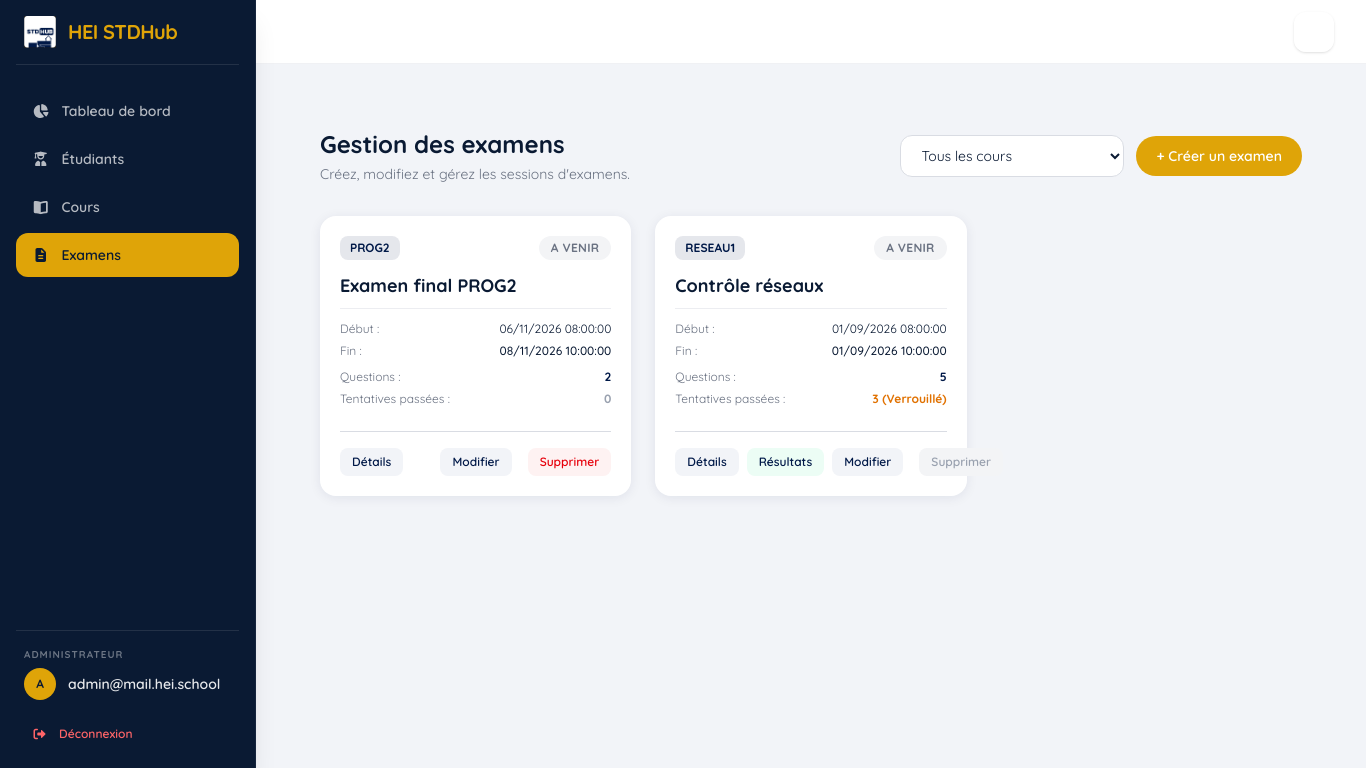
Gestion des examens (admin) › ouvre et ferme le formulaire de création
expect the text "NOUVEL EXAMEN" is not shown: met
Click the button "+ Créer un examen": [1219, 156] box [1136,136,1302,176]
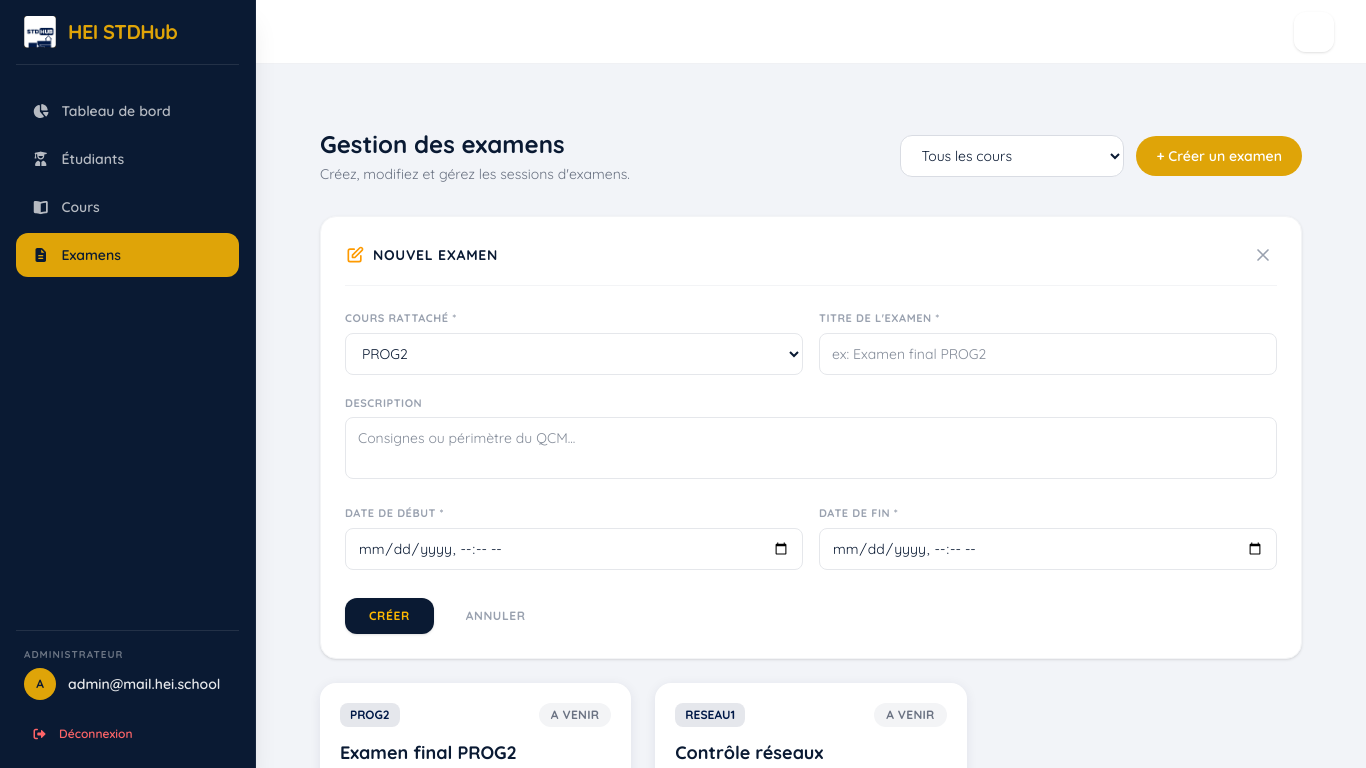
expect the text "NOUVEL EXAMEN" is shown: met, box [373,245,498,265]
Click the button "ANNULER": [496, 616] box [450,598,542,634]
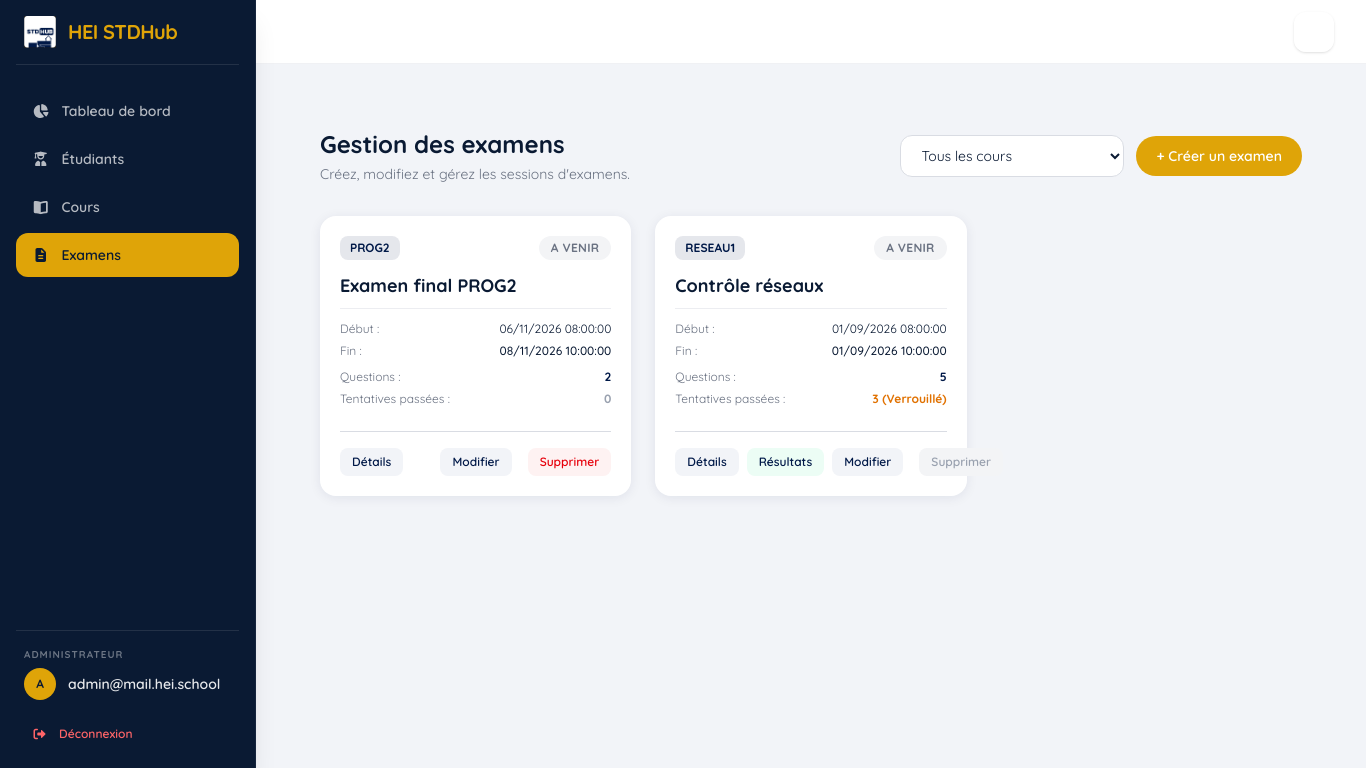
expect the text "NOUVEL EXAMEN" is gone: met
